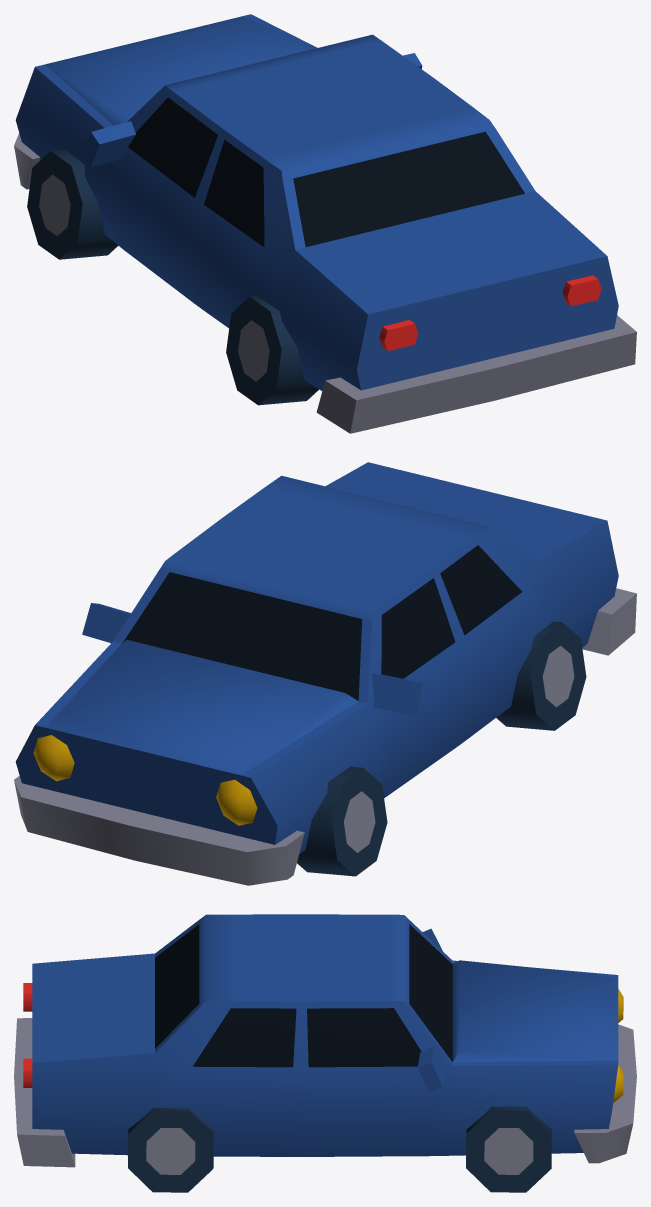
The model's file is CarBlue (2).fbx.
3 views of the same model, one above another, from view 1: azimuth 30°, elevation 25°; view 2: azimuth 150°, elevation 25°; view 3: azimuth 270°, elevation 25° (orthographic). The views are drawn at different scales.
Parts seen in each view (by area): view 1: Cube.044; view 2: Cube.044; view 3: Cube.044.
Boxes of the visible parts, bbox=[...] form: Cube.044: bbox=[14, 14, 636, 433]; Cube.044: bbox=[14, 462, 636, 885]; Cube.044: bbox=[14, 914, 636, 1192].
Size of the model in its own units: 27.17 by 16.32 by 52.57.
